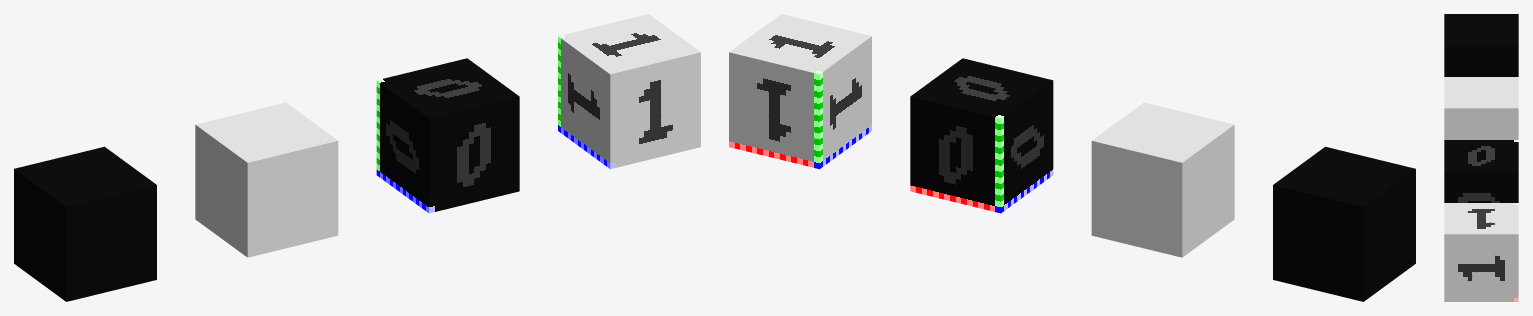
The model's file is export_block_defs_glb.glb.
3 views of the same model, side by side, from view 1: azimuth 30°, elevation 25°; view 2: azimuth 150°, elevation 25°; view 3: azimuth 270°, elevation 25° (orthographic). The views are drawn at different scales.
Visible parts, largest first — view 1: 'block1', 'block2', 'block0', 'block3'; view 2: 'block1', 'block2', 'block0', 'block3'; view 3: 'block3', 'block0', 'block1', 'block2'.
Part boxes in pixels (x1,y1,x2,y2): 'block1': (195,102,338,257); 'block2': (376,58,519,213); 'block0': (14,146,156,301); 'block3': (558,14,700,169); 'block1': (1091,102,1234,257); 'block2': (910,58,1053,213); 'block0': (1273,146,1415,301); 'block3': (729,14,871,169); 'block3': (1444,203,1518,301); 'block0': (1444,14,1518,76); 'block1': (1444,77,1518,139); 'block2': (1444,140,1518,202).
Bounding box in the file's own units: 7 × 1 × 1.
2 materials, 1 textured.
